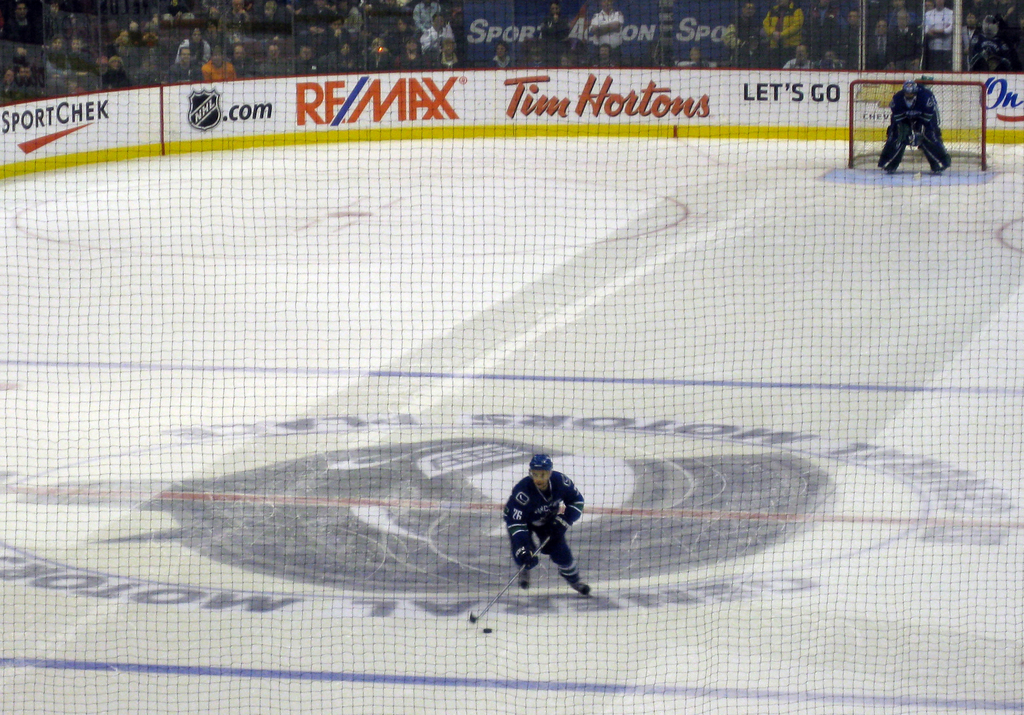Person: (0, 0, 1024, 110), (501, 453, 591, 597), (876, 79, 951, 173)
